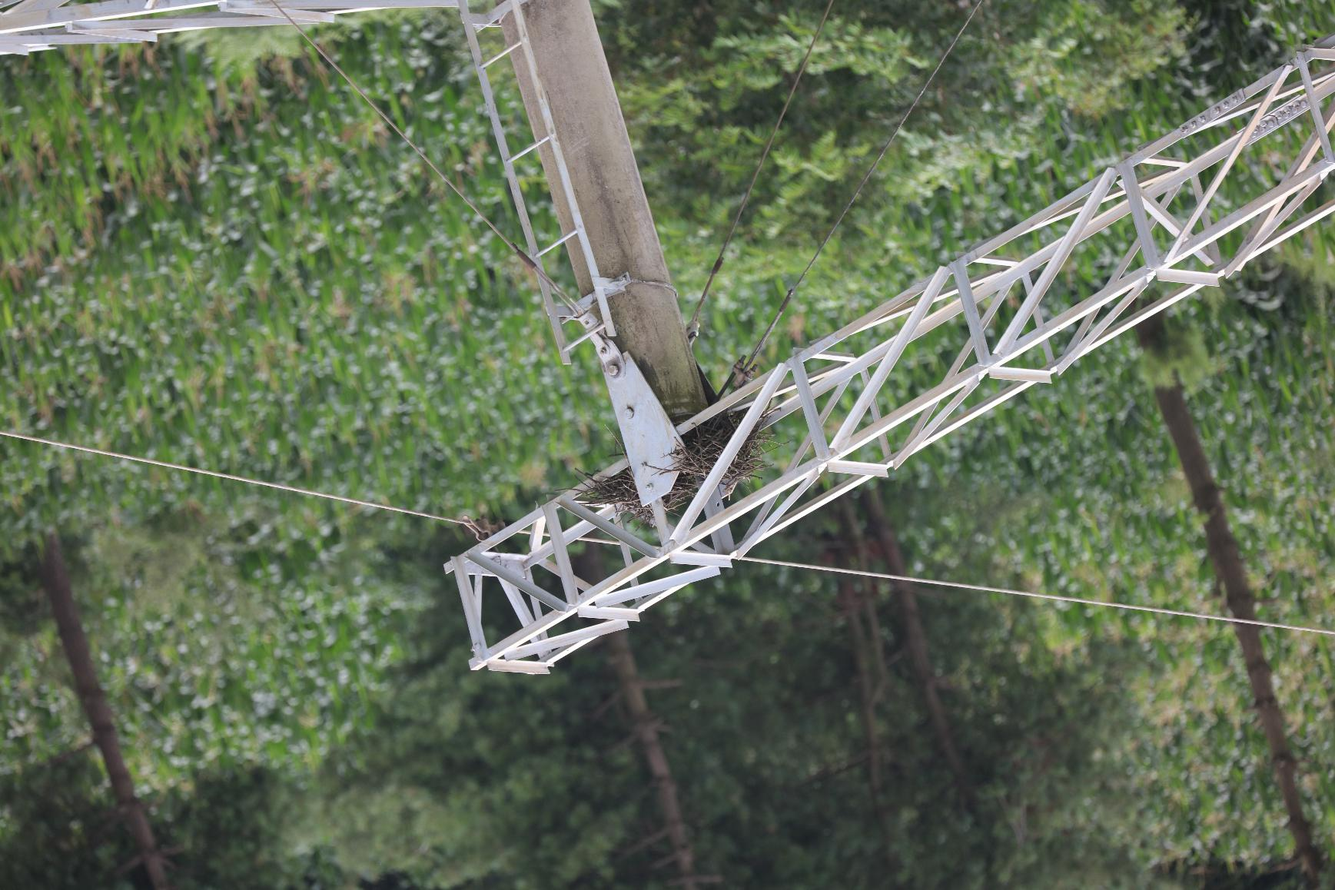nest: (585, 409, 770, 523)
